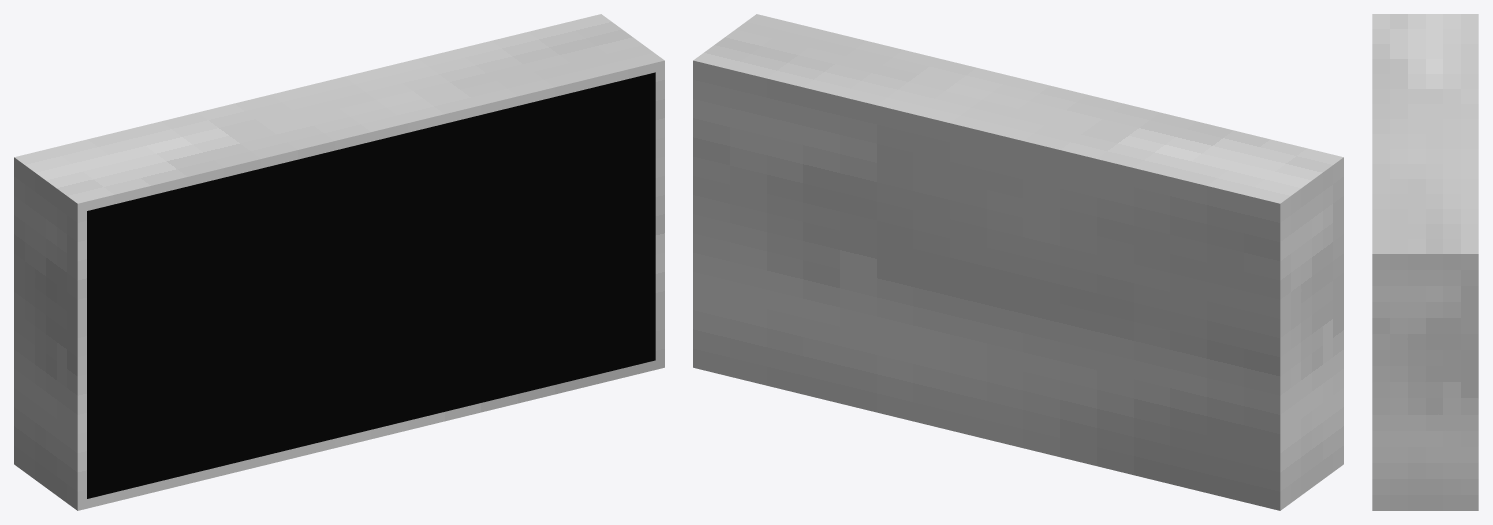
File: jcm_on_wall.obj
The picture shows the model from 3 angles, left to right: view 1: azimuth 30°, elevation 25°; view 2: azimuth 150°, elevation 25°; view 3: azimuth 270°, elevation 25°; orthographic projection. The views are drawn at different scales.
Parts seen in each view (by area): view 1: cube; view 2: cube; view 3: cube.
Boxes of the visible parts, <box> form: cube: <box>14,14,664,510</box>; cube: <box>693,14,1343,510</box>; cube: <box>1372,14,1478,510</box>.
Size of the model in its own units: 2 by 0.9999 by 0.3751.
2 materials, 2 textured.
